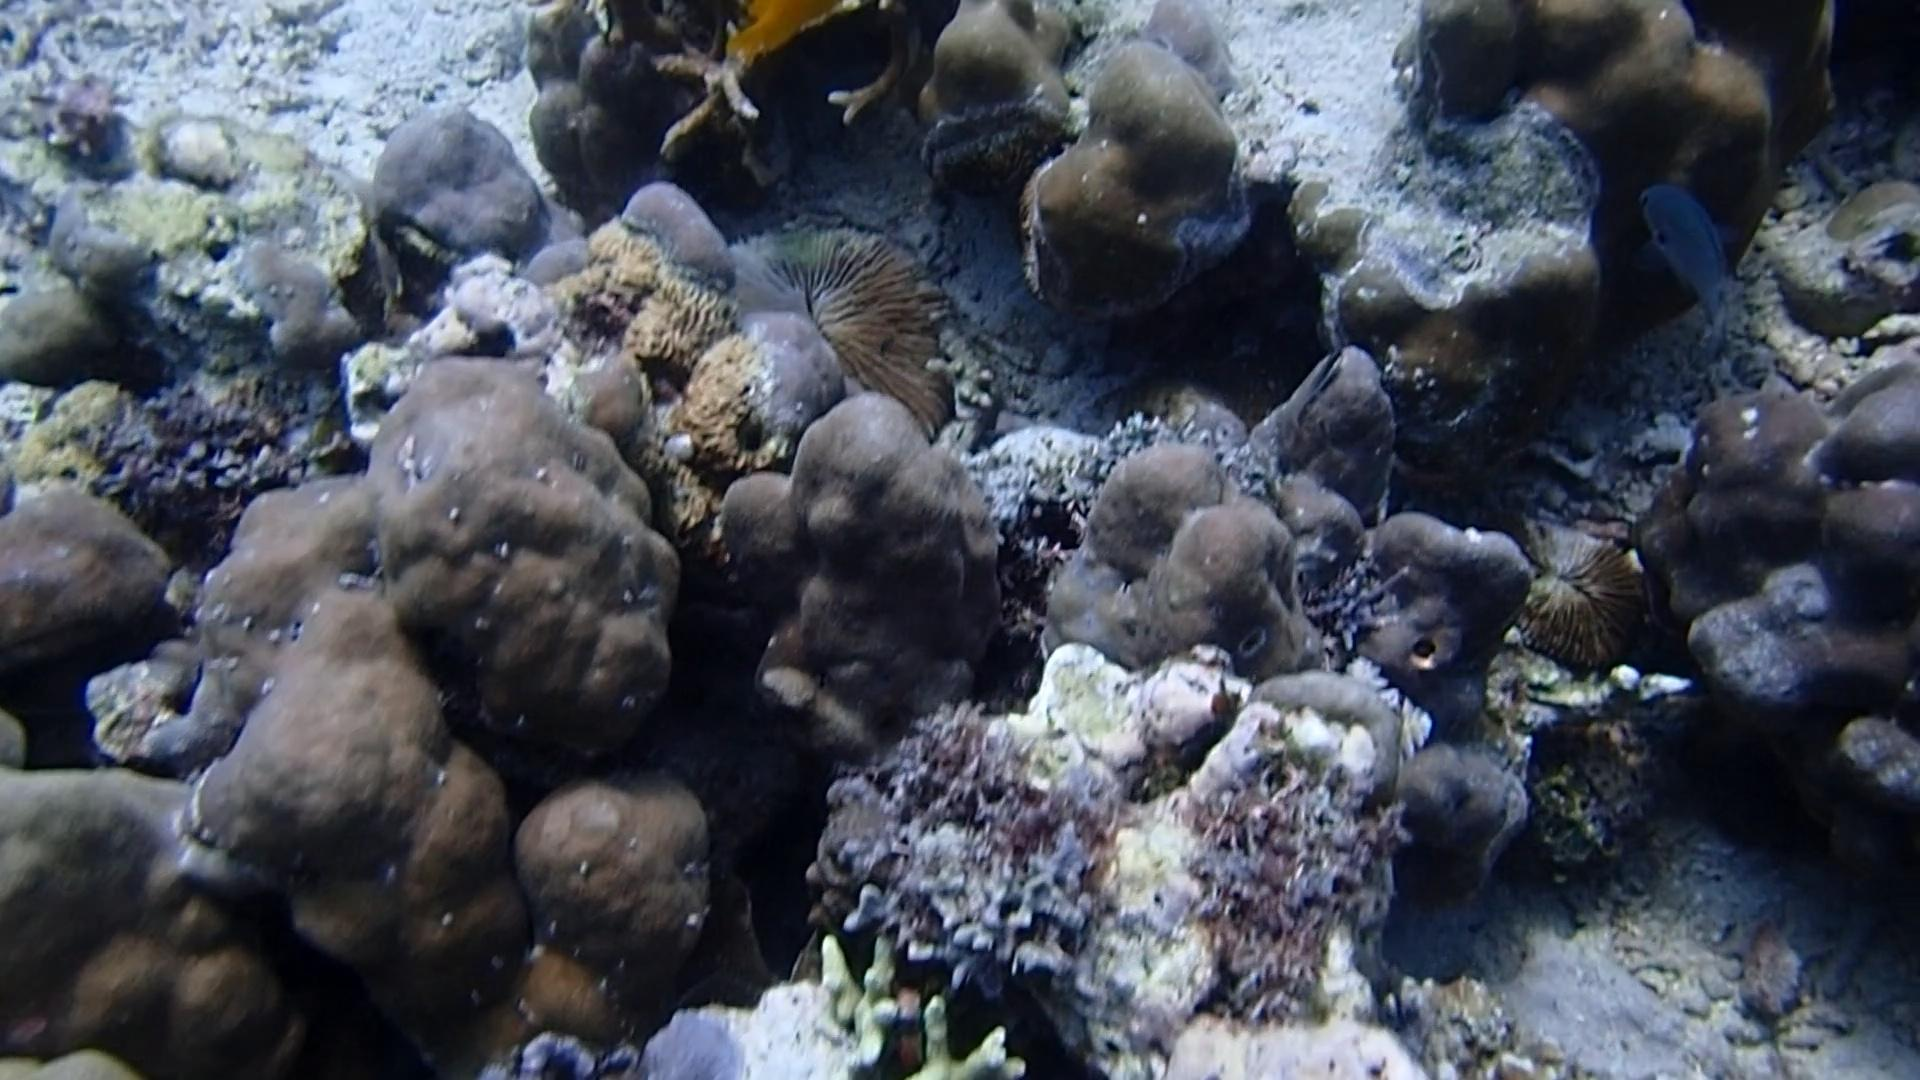Blue Fish Two: (1631, 177, 1754, 323)
Yellow Fish: (719, 0, 857, 76)
